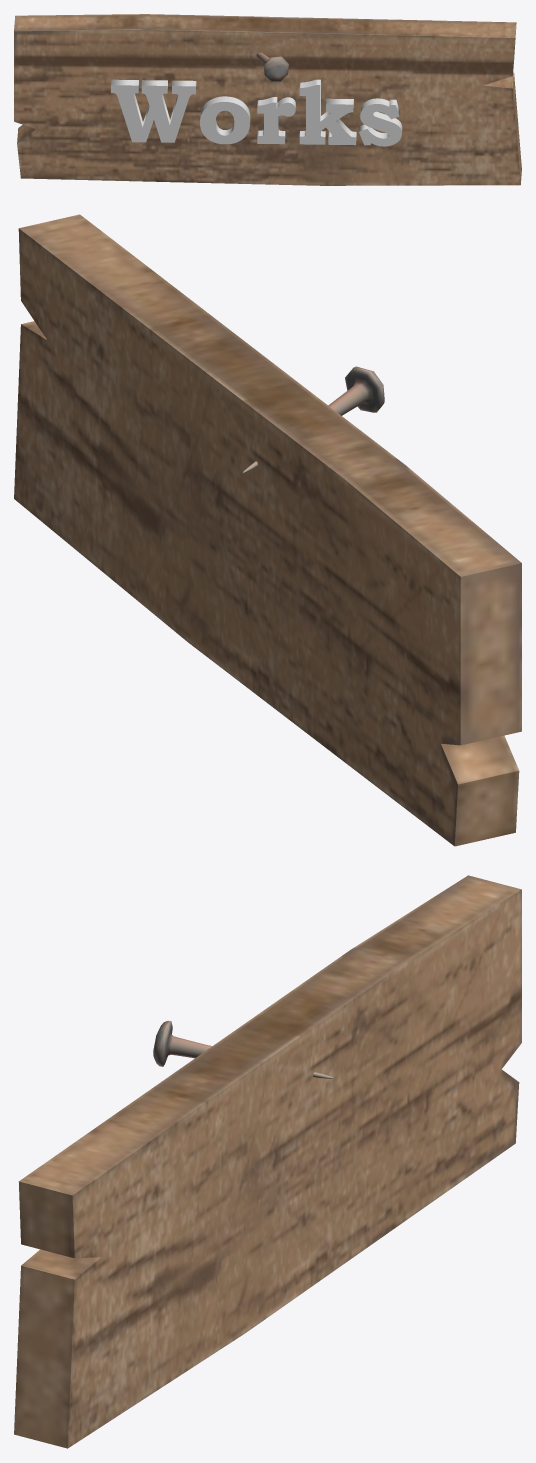
Rendered from sign_work.glb.
3 views of the same model, one above another, from view 1: azimuth 30°, elevation 25°; view 2: azimuth 150°, elevation 25°; view 3: azimuth 270°, elevation 25° (orthographic). The views are drawn at different scales.
Parts seen in each view (by area): view 1: defaultMaterial.028, Text, nail; view 2: defaultMaterial.028, nail; view 3: defaultMaterial.028, nail.
Part boxes in pixels (left/top/right/bottom): defaultMaterial.028: left=14, top=14, right=521, bottom=185; Text: left=111, top=79, right=402, bottom=146; nail: left=256, top=52, right=288, bottom=81; defaultMaterial.028: left=14, top=214, right=521, bottom=846; nail: left=242, top=366, right=384, bottom=473; defaultMaterial.028: left=14, top=875, right=521, bottom=1448; nail: left=153, top=1020, right=333, bottom=1078.
Bounding box in the file's own units: 0.8797 × 0.3312 × 0.5839.
Materials: 2 (2 with a texture image).
